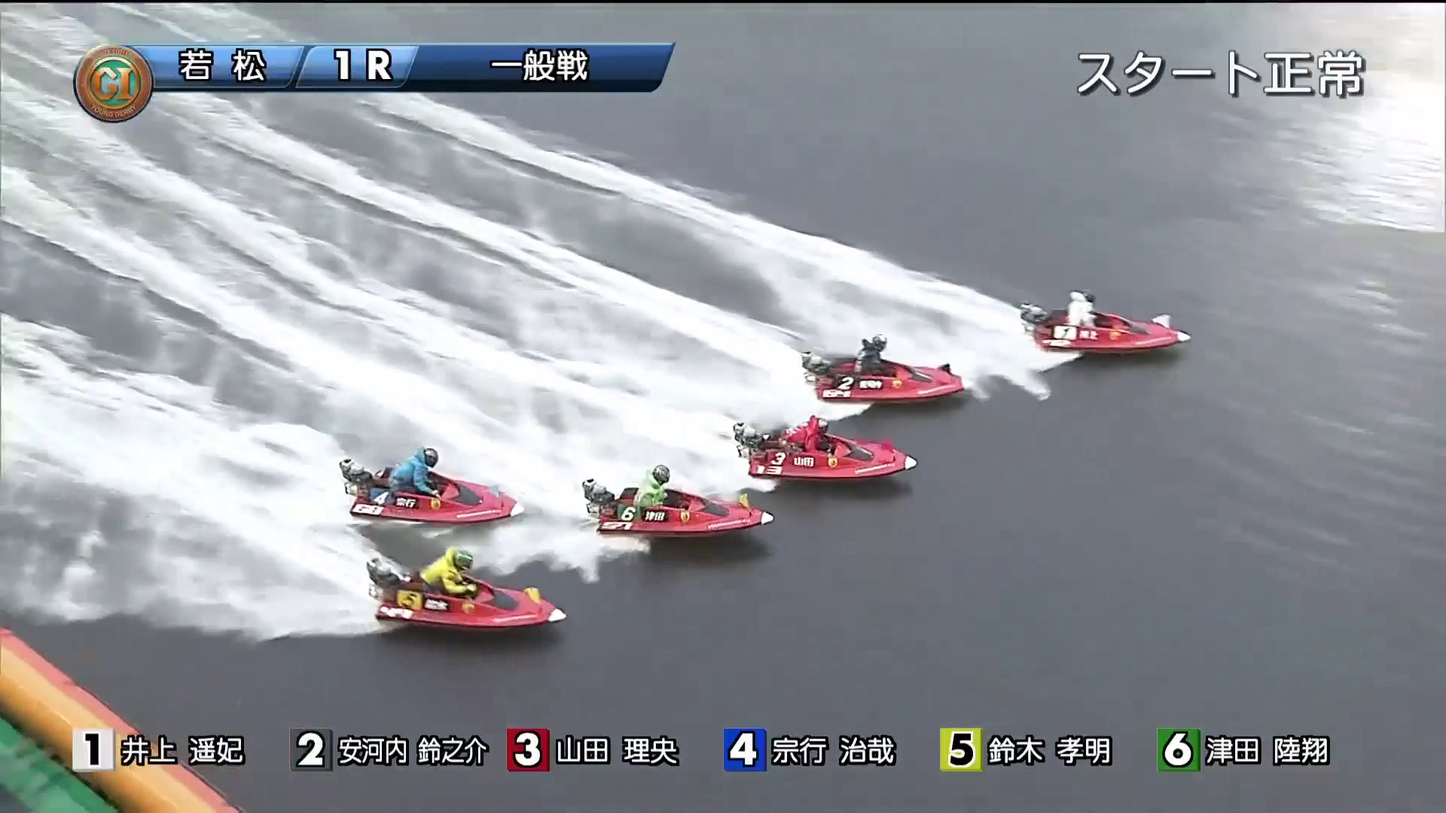１号艇: (1029, 306, 1167, 359)
２号艇: (811, 344, 939, 404)
３号艇: (777, 428, 917, 473)
４号艇: (614, 480, 734, 545)
５号艇: (360, 471, 484, 526)
６号艇: (456, 582, 555, 638)
